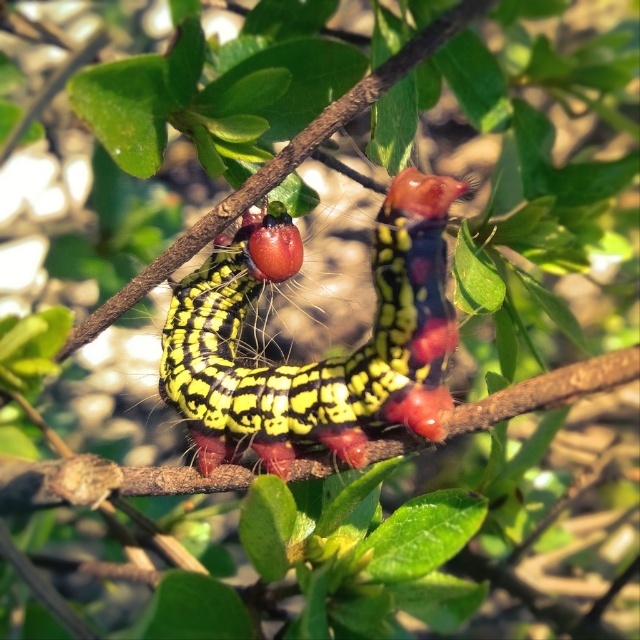Caterpillar: (119, 165, 478, 483)
